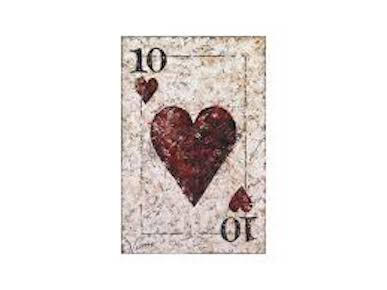TenOfHearts: (116, 34, 280, 263)
